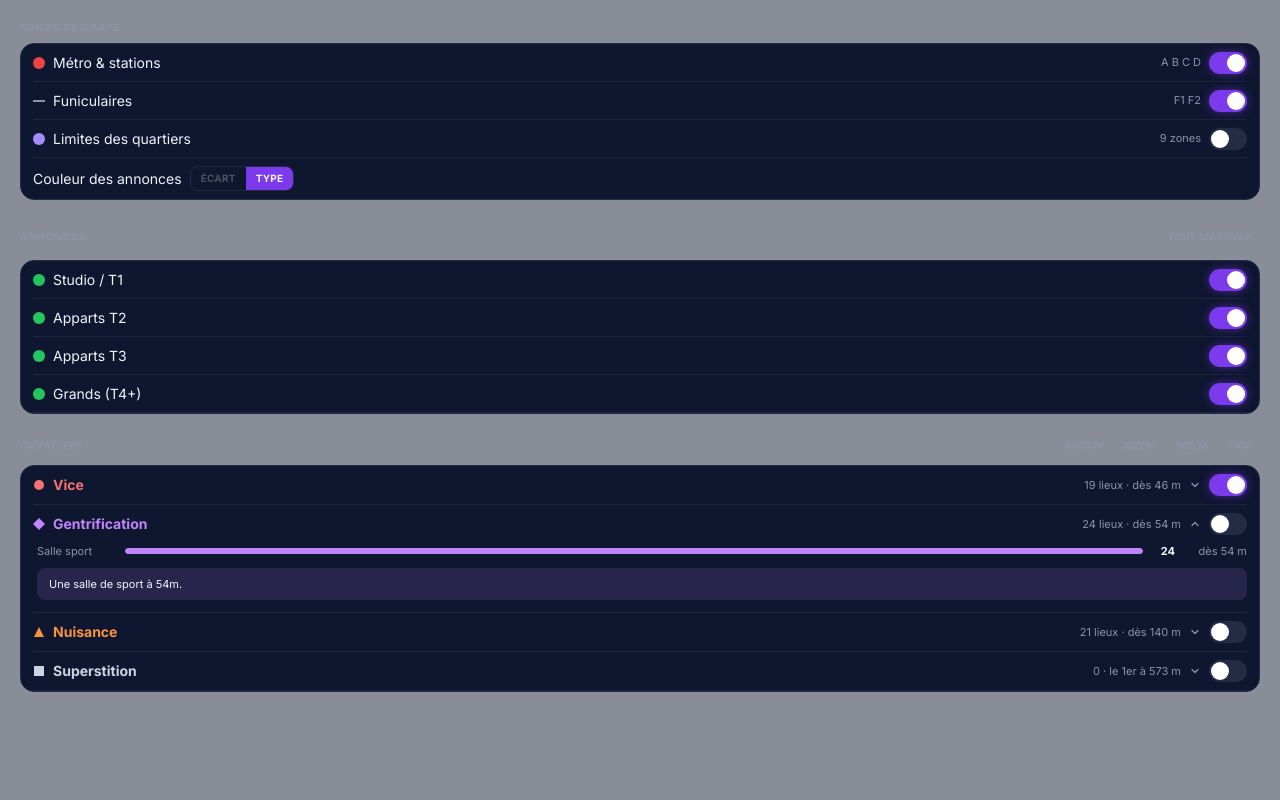
Test: CalquesView › collapses the row when its own expand button is clicked again
Click the button "Gentrification 24 lieux · dès 54 m": (100, 524) [33,514,1201,534]
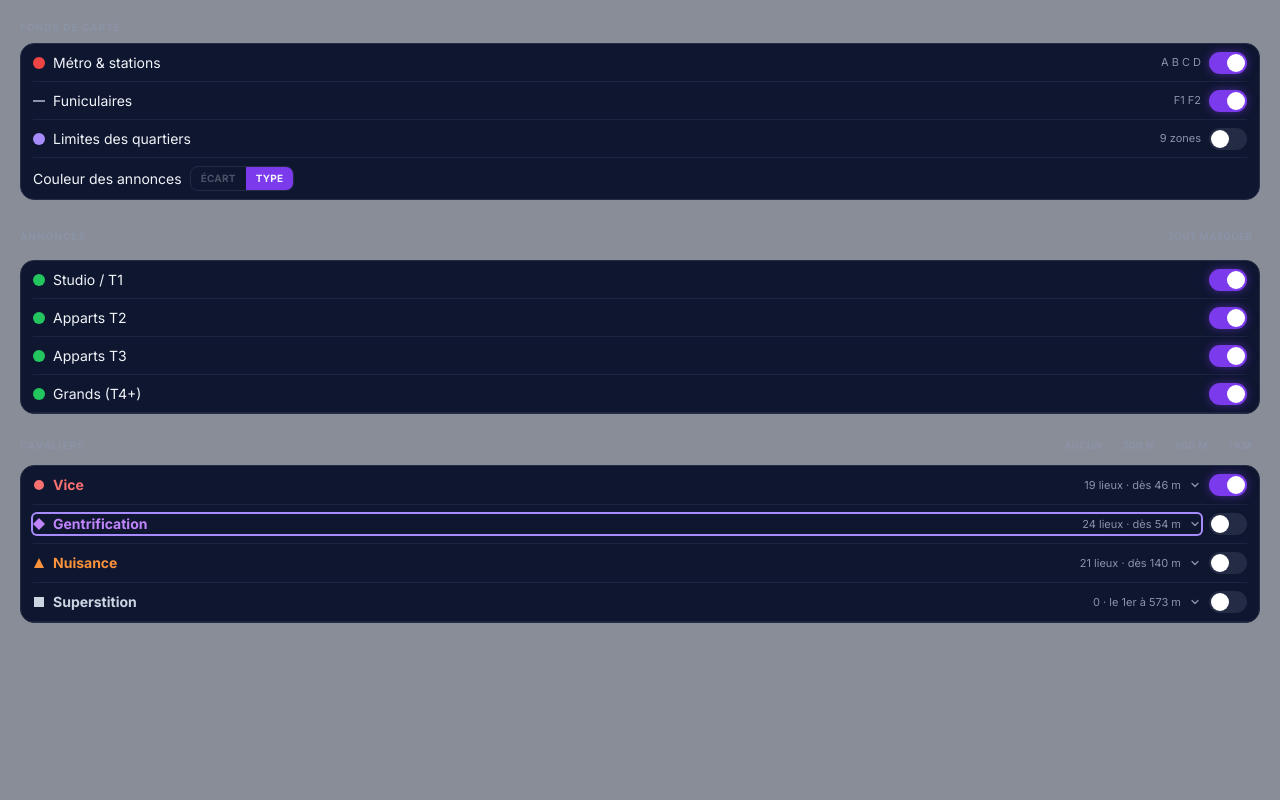
Expected: the button "Gentrification 24 lieux · dès 54 m" is collapsed, [33,514,1201,534]
